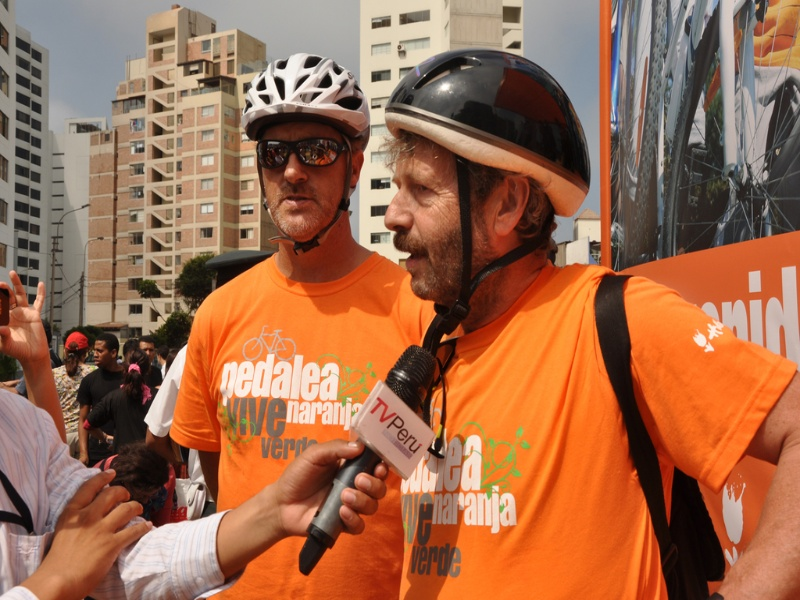Baret: (387, 47, 593, 210)
